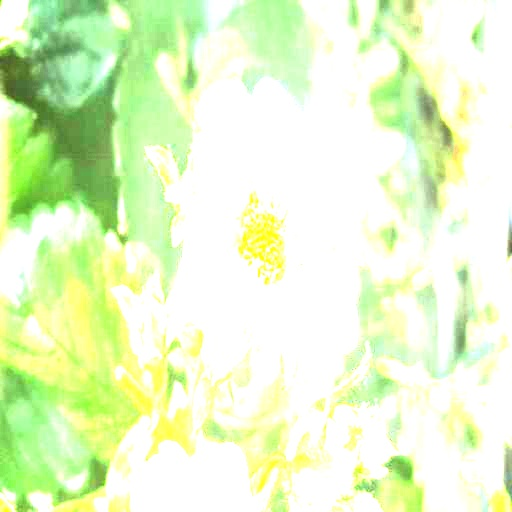Blossom Blight: (225, 177, 311, 303)
